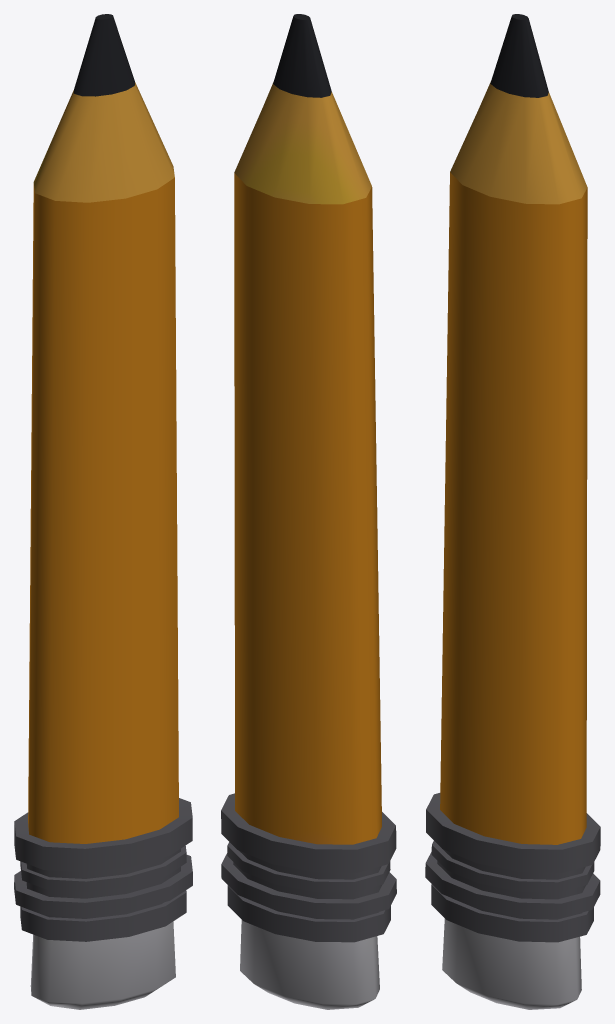
File: Pencil_01.fbx
3 renders of one model, left to right at view 1: azimuth 30°, elevation 25°; view 2: azimuth 150°, elevation 25°; view 3: azimuth 330°, elevation 25°, orthographic.
Visible parts, largest first — view 1: Pencil_01; view 2: Pencil_01; view 3: Pencil_01.
Boxes of the visible parts, x1,y1,x2,y2 form: Pencil_01: (14,14,192,1009); Pencil_01: (221,14,396,1009); Pencil_01: (425,14,600,1009).
Bounding box in the file's own units: 6.78 × 4.53 × 37.79.
